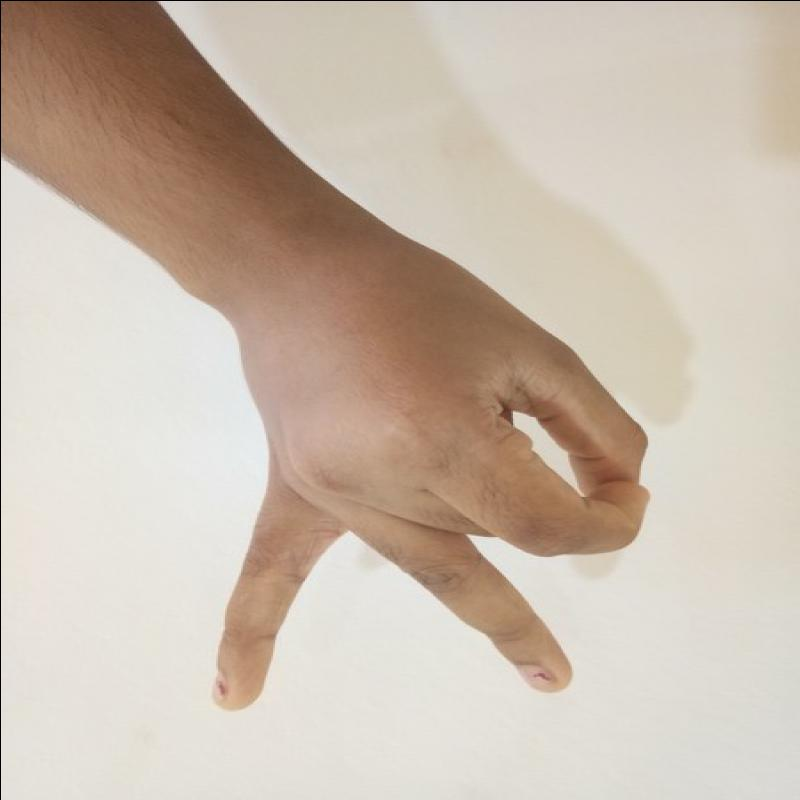Katakam: (173, 251, 677, 742)
